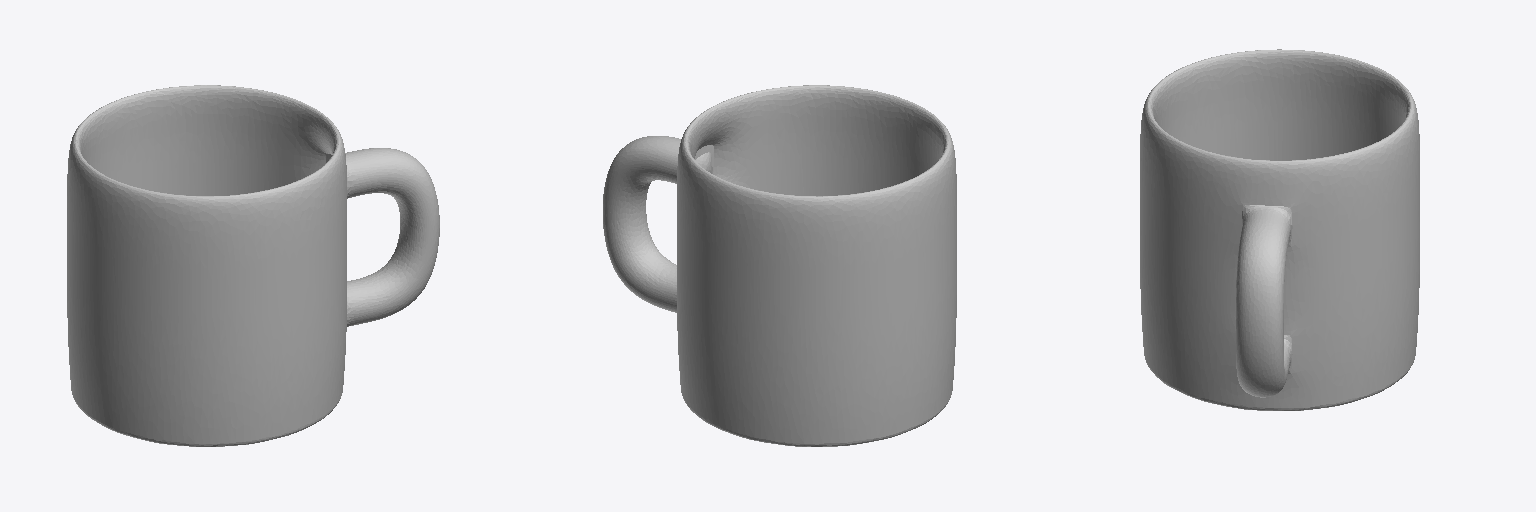
File: mug_small.obj
The picture shows the model from 3 angles: view 1: azimuth 30°, elevation 25°; view 2: azimuth 150°, elevation 25°; view 3: azimuth 270°, elevation 25°; orthographic projection.
Bounding box in the file's own units: 2.78 × 1.98 × 1.98.